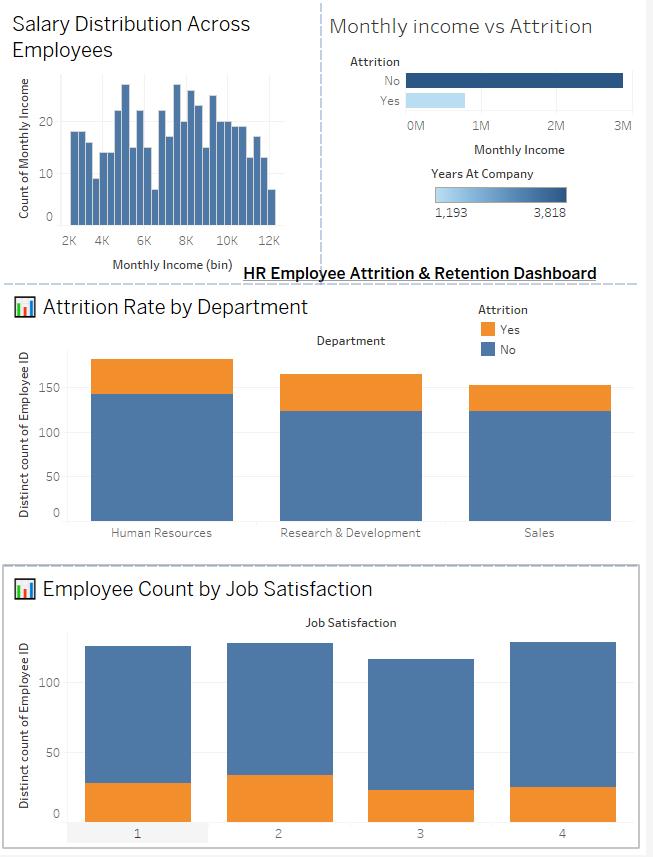

This screenshot's page, from the dashboard's own definition file:
{"tool":"tableau","page":{"name":"Dashboard 1","canvas":[650,860],"ordinal":0},"visuals":[{"type":"worksheet","title":"Sheet 3","mark":"Automatic","rows":["MonthlyIncome"],"cols":["Monthly Income (bin)"],"box":[8,8,285,281.3]},{"type":"worksheet","title":"Sheet 2","mark":"Automatic","rows":["Attrition"],"cols":["MonthlyIncome"],"box":[325,8,317,281.3]},{"type":"legend","title":"Sheet 2","param":"[federated.182aorp0npcf9h15vo0c30p12jcj].[sum:YearsAtCompany:qk]","box":[435,170,140,76]},{"type":"worksheet","title":"Sheet 1","mark":"Bar","rows":["EmployeeID"],"cols":["Department"],"box":[8,289.3,634,281.3]},{"type":"legend","title":"Sheet 1","param":"[federated.182aorp0npcf9h15vo0c30p12jcj].[none:Attrition:nk]","box":[482,306,140,58]},{"type":"worksheet","title":"Sheet 4","mark":"Bar","rows":["EmployeeID"],"cols":["JobSatisfaction"],"box":[8,570.7,634,281.3]}]}

Visuals, with their boxes in screenshot pixels (x1, y1, x2, y2), scaled from the page's 650x860 canvas onto the 653x857 screenshot:
"Sheet 3" worksheet: box(8, 8, 294, 288)
"Sheet 2" worksheet: box(326, 8, 645, 288)
"Sheet 2" legend: box(437, 169, 578, 245)
"Sheet 1" worksheet (Bar marks): box(8, 288, 645, 569)
"Sheet 1" legend: box(484, 305, 625, 363)
"Sheet 4" worksheet (Bar marks): box(8, 569, 645, 849)
